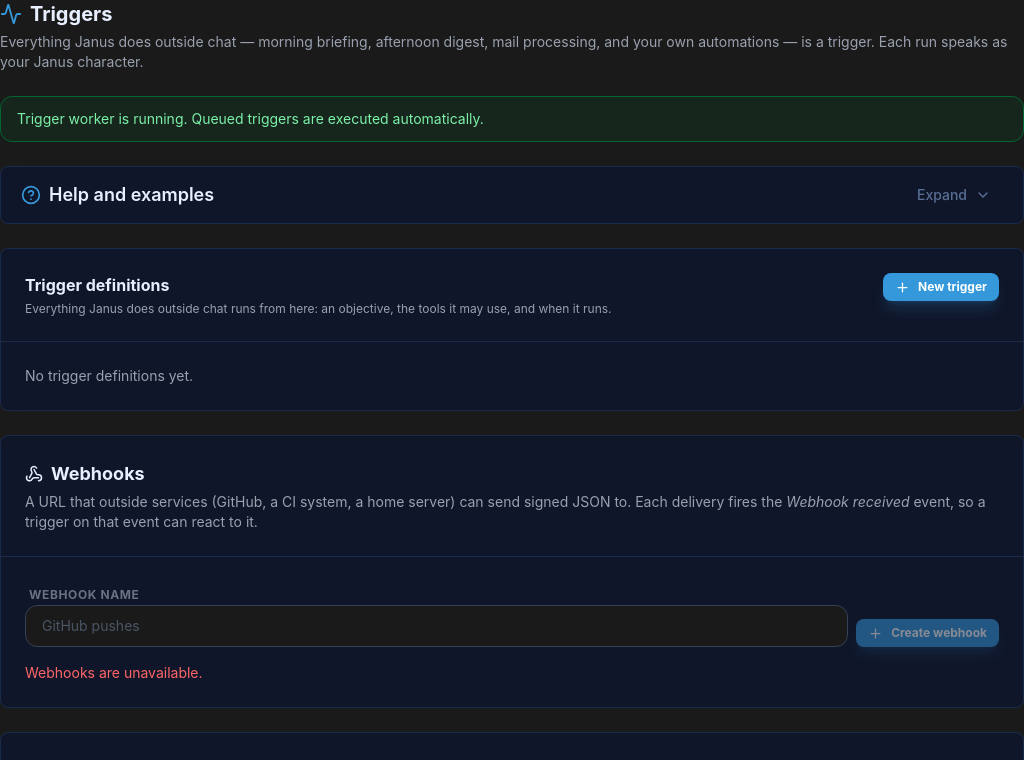
Test case: RuntimeTriggerManager › creates a manual trigger with the selected tools
Later steps or results of the test are not shown.
Click the button "New trigger" at {"x": 941, "y": 287}, box [883,273,999,301]
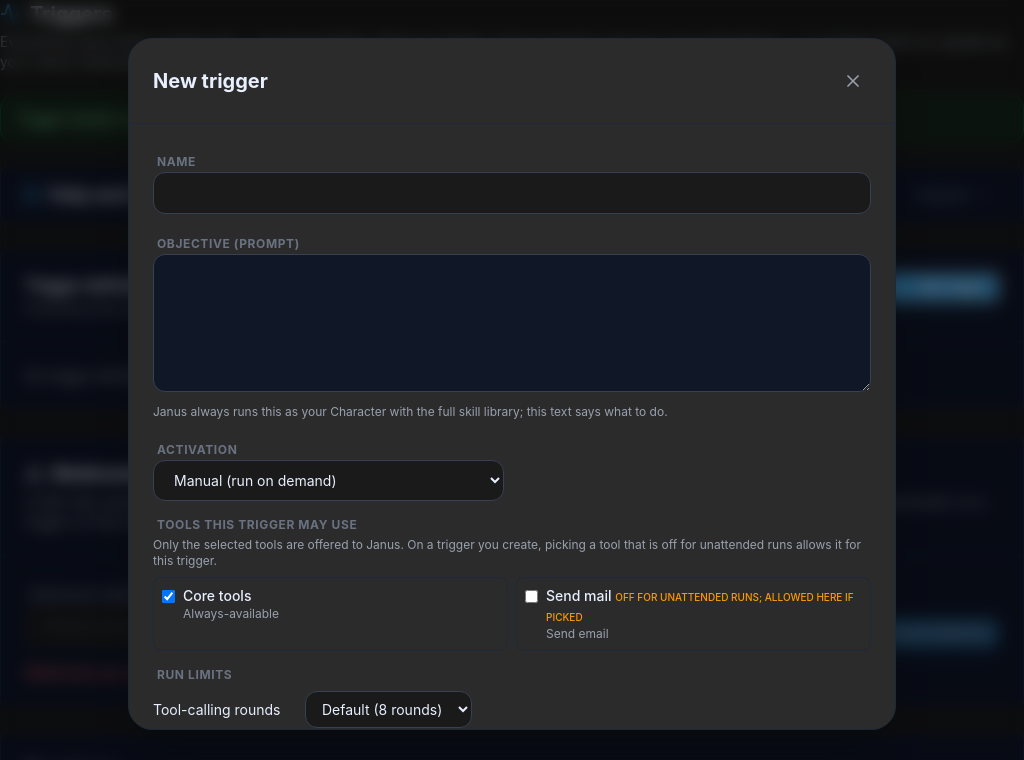
Type "Weekly status mail" into the field labelled "Name" at {"x": 512, "y": 193}, box [153,172,871,214]
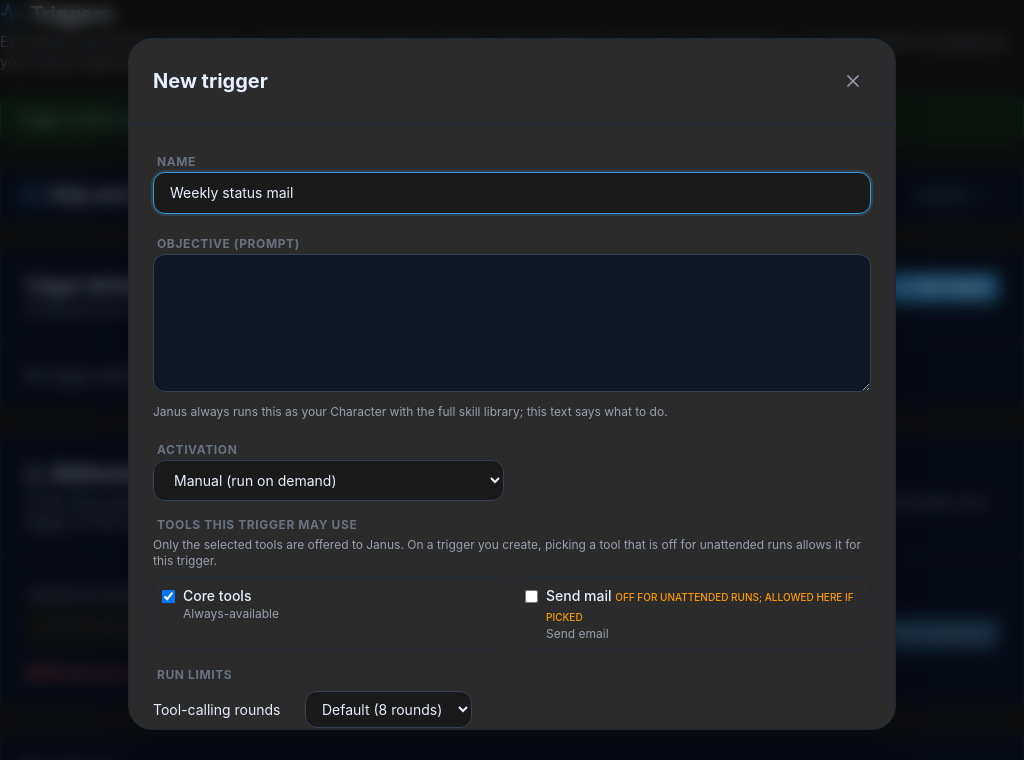
Type "Send my weekly status mail" into the text box labelled "Objective (prompt)" at {"x": 512, "y": 323}, box [153,254,871,392]
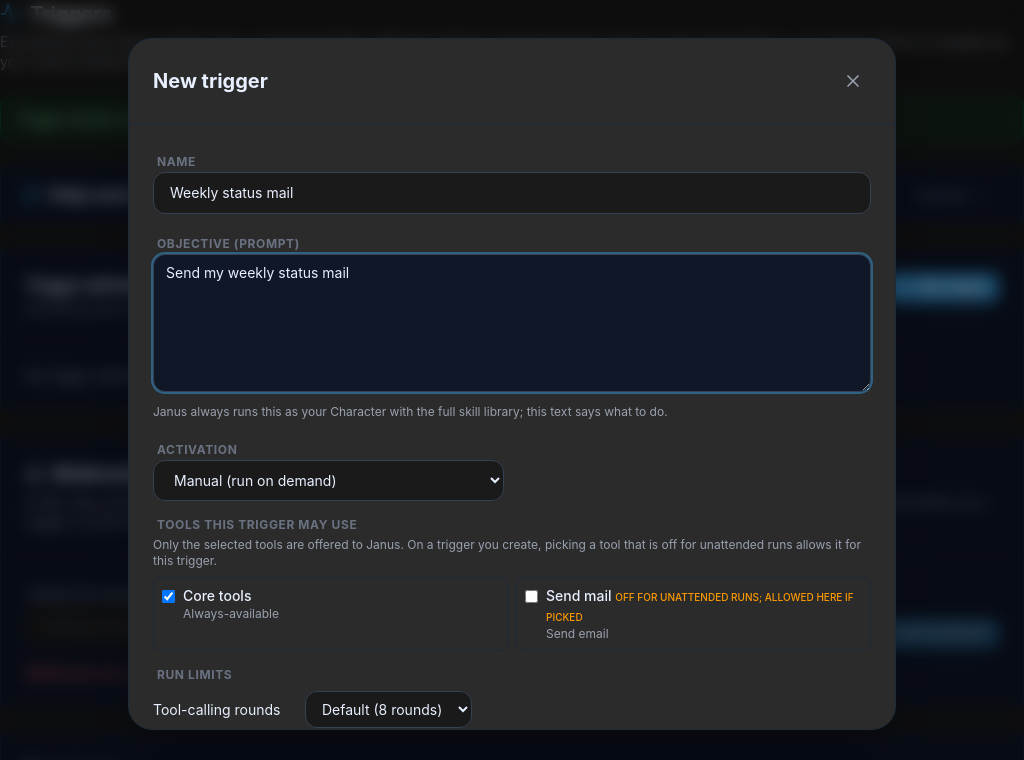
Expected: the text "off for unattended runs; allowed here if picked" is shown, [546,591,854,623]
